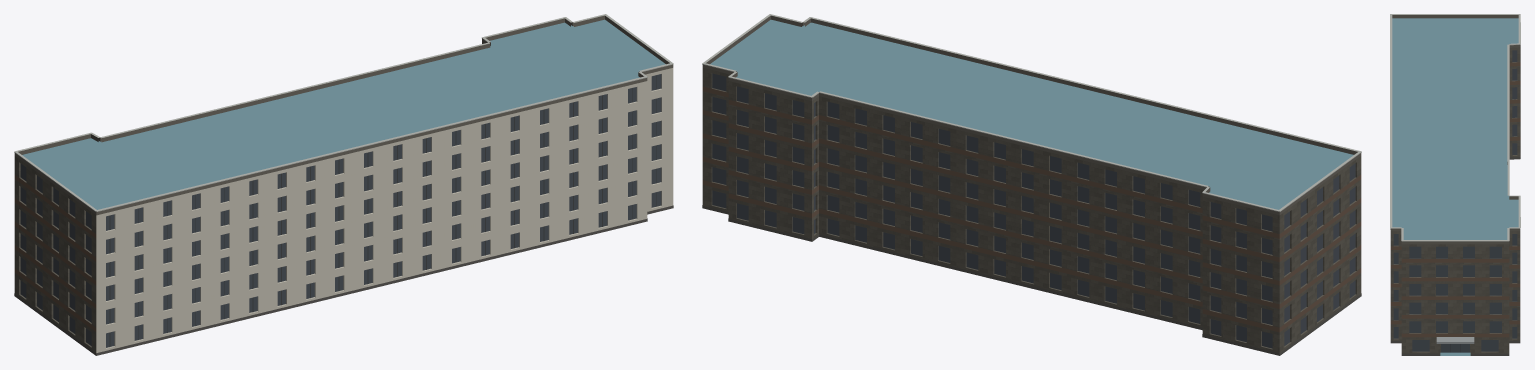
3 views of the same model, side by side, from view 1: azimuth 30°, elevation 25°; view 2: azimuth 150°, elevation 25°; view 3: azimuth 270°, elevation 25° (orthographic). The views are drawn at different scales.
Parts seen in each view (by area): view 1: computing__render, computing__roof, computing__glass, computing__wall, computing__parapet, computing__trim, computing__frame, computing__base, computing__wall2; view 2: computing__wall, computing__roof, computing__glass, computing__wall2, computing__parapet, computing__trim, computing__base; view 3: computing__roof, computing__wall, computing__glass, computing__wall2, computing__trim, computing__parapet, computing__base, computing__canopy.
Part boxes in pixels (<box>): computing__render: <box>96,68,673,352</box>; computing__roof: <box>22,19,665,209</box>; computing__glass: <box>20,74,661,347</box>; computing__wall: <box>14,42,484,355</box>; computing__parapet: <box>14,15,673,215</box>; computing__trim: <box>14,14,673,211</box>; computing__frame: <box>109,75,656,346</box>; computing__base: <box>14,205,673,355</box>; computing__wall2: <box>14,175,96,331</box>; computing__wall: <box>702,68,1361,355</box>; computing__roof: <box>710,19,1353,209</box>; computing__glass: <box>712,73,1355,348</box>; computing__wall2: <box>702,86,1361,332</box>; computing__parapet: <box>702,15,1361,215</box>; computing__trim: <box>702,14,1361,211</box>; computing__base: <box>702,205,1361,355</box>; computing__roof: <box>1392,18,1518,355</box>; computing__wall: <box>1390,47,1520,353</box>; computing__glass: <box>1393,50,1517,352</box>; computing__wall2: <box>1390,62,1520,337</box>; computing__trim: <box>1390,14,1520,241</box>; computing__parapet: <box>1390,15,1520,244</box>; computing__base: <box>1390,157,1520,355</box>; computing__canopy: <box>1436,337,1474,343</box>.
Size of the model in its own units: 90.9 by 21.02 by 21.64.
Materials: 11 (1 with a texture image).
